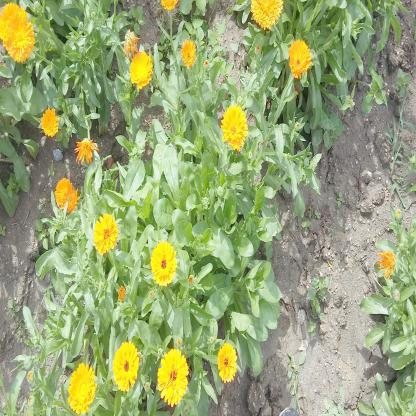marigold: (158, 346, 188, 406), (3, 14, 35, 63), (68, 364, 95, 411), (223, 101, 248, 150), (112, 341, 138, 387), (252, 0, 284, 31), (153, 242, 175, 284), (94, 216, 118, 253), (218, 342, 238, 381), (130, 54, 154, 86), (290, 40, 308, 80), (55, 181, 75, 213), (42, 109, 58, 138), (182, 41, 194, 63)
